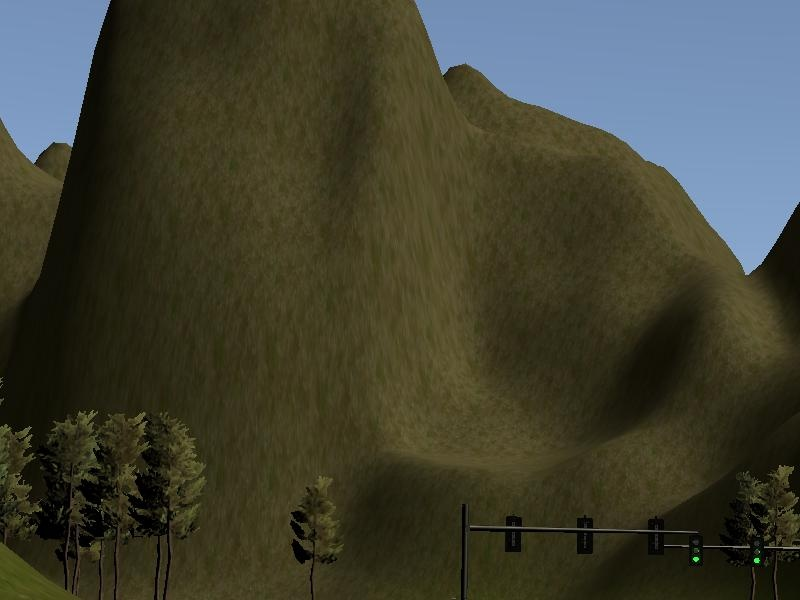GREEN: (750, 535, 766, 567), (689, 535, 704, 567)
